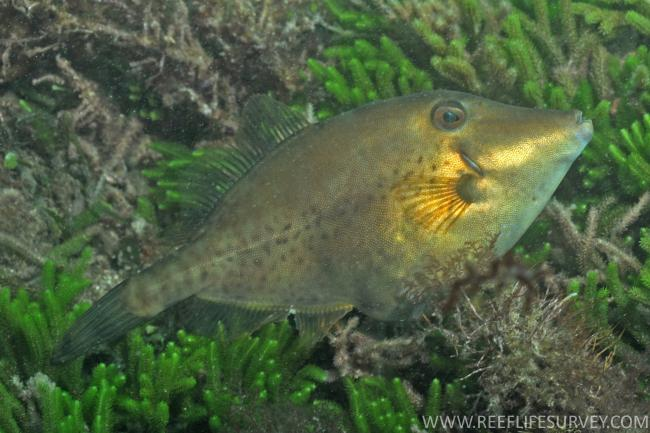fish: (53, 89, 595, 362)
